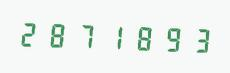eight: (45, 17, 72, 51), (129, 20, 156, 54)
nine: (157, 21, 184, 55)
one: (101, 19, 128, 53)
seven: (73, 18, 100, 52)
three: (185, 22, 212, 56)
two: (17, 16, 44, 50)
